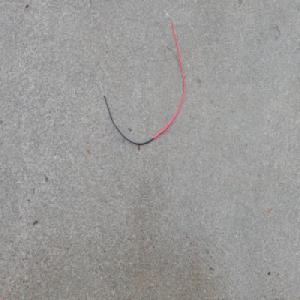Wire: (96, 7, 185, 146)
